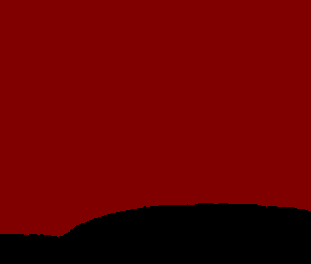Sky: (1, 1, 310, 263)
